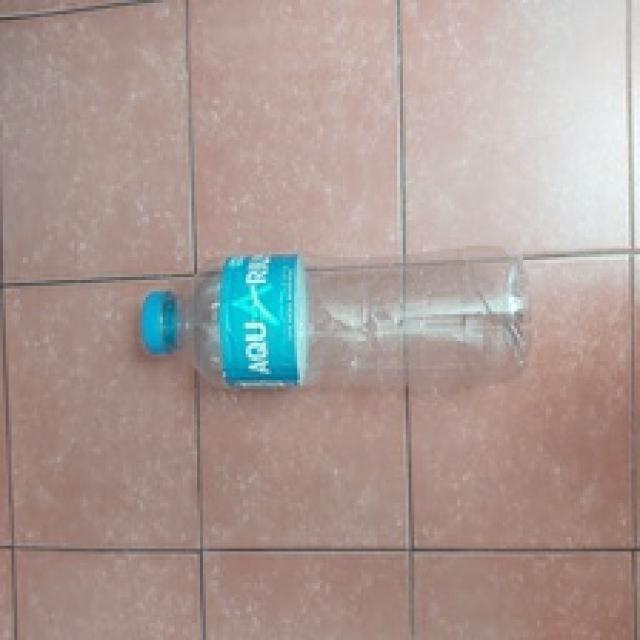bottle: (143, 251, 533, 390)
